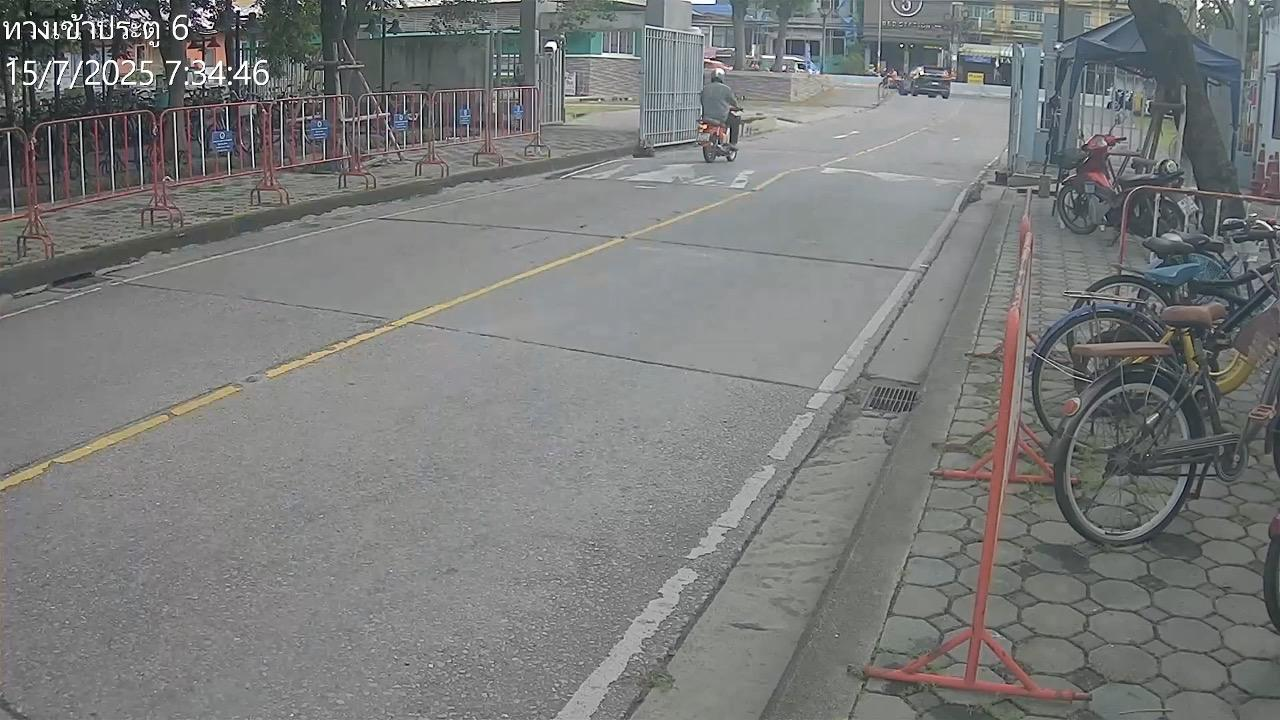With-Helmet: (711, 66, 726, 83)
